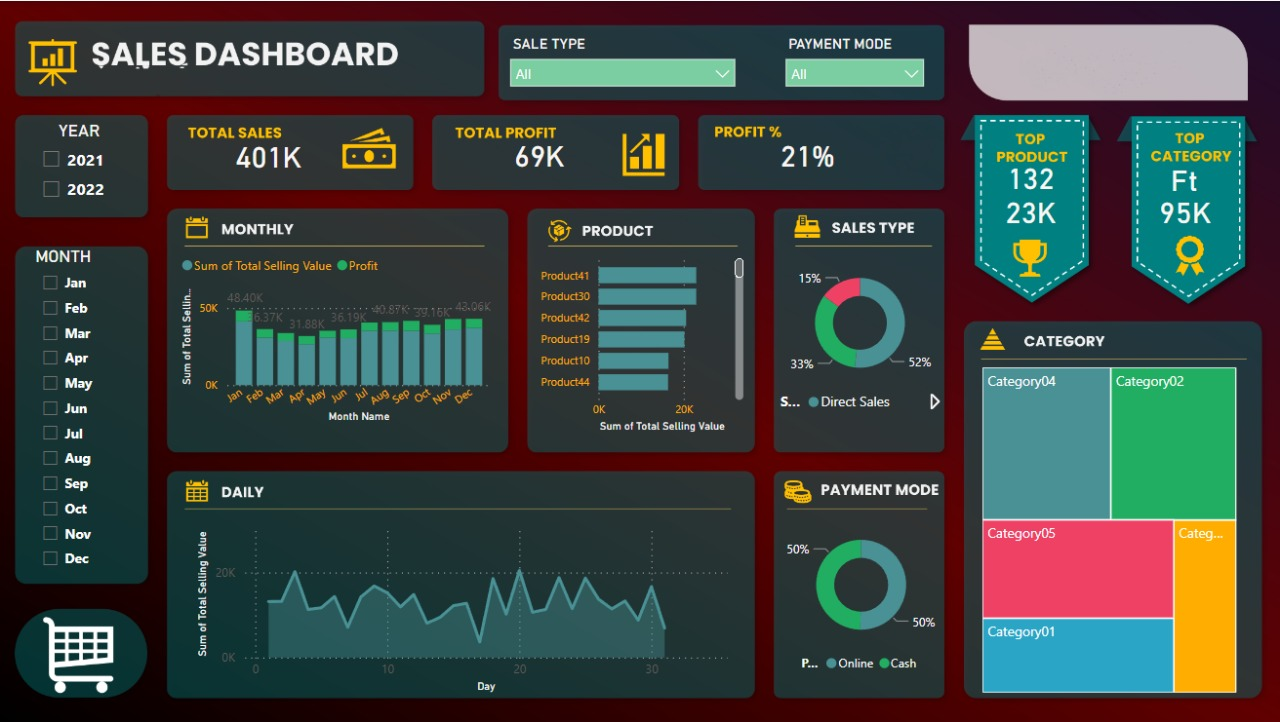

What the dashboard file says about the page in this screenshot:
{"tool":"powerbi","page":{"name":"Page 1","canvas":[1280,720],"ordinal":0},"visuals":[{"type":"slicer","title":"YEAR","fields":{"Values":["InputData.Year"]},"box":[27.3,122.9,115.5,94.4],"z":0},{"type":"slicer","fields":{"Values":["InputData.PAYMENT MODE"]},"box":[758.7,28.6,183.8,72],"z":1000},{"type":"slicer","fields":{"Values":["InputData.SALE TYPE"]},"box":[529,28.6,206.1,68.3],"z":2000},{"type":"slicer","title":"MONTH","fields":{"Values":["InputData.Month Name"]},"box":[27.3,265.7,115.5,322.9],"z":3000},{"type":"card","fields":{"Values":["Sum(InputData.Total Selling Value)"]},"box":[193.7,146.5,116.7,37.3],"z":4000},{"type":"card","fields":{"Values":["Min(InputData.MasterData.UOM)"]},"box":[1065.4,172.6,52.2,36],"z":5000},{"type":"card","fields":{"Values":["Sum(InputData.Total Selling Value)"]},"box":[1022,202.4,86.9,38.5],"z":6000},{"type":"card","fields":{"Values":["InputData.Profit %"]},"box":[836.9,137.8,95.6,45.9],"z":7000},{"type":"card","fields":{"Values":["Sum(InputData.QUANTITY)"]},"box":[1014.5,168.9,59.6,44.7],"z":8000},{"type":"card","fields":{"Values":["InputData.Profit"]},"box":[463.2,145.3,132.9,38.5],"z":9000},{"type":"card","fields":{"Values":["Sum(InputData.Total Selling Value)"]},"box":[1184.6,197.4,83.2,39.7],"z":10000},{"type":"columnChart","fields":{"Category":["InputData.Month Name"],"Y":["Sum(InputData.Total Selling Value)","InputData.Profit"]},"box":[183.8,250.8,345.2,206.1],"z":11000},{"type":"clusteredBarChart","fields":{"Category":["InputData.MasterData.PRODUCT"],"Y":["Sum(InputData.Total Selling Value)"]},"box":[552.6,250.8,224.8,206.1],"z":12000},{"type":"areaChart","fields":{"Y":["Sum(InputData.Total Selling Value)"],"Category":["InputData.Day"]},"box":[209.9,532.7,537.7,173.8],"z":13000},{"type":"donutChart","title":"Total Selling Value by SALE TYPE","fields":{"Y":["Sum(InputData.Total Selling Value)"],"Category":["InputData.SALE TYPE"]},"box":[804.7,265.7,167.6,187.5],"z":14000},{"type":"donutChart","title":"Total Selling Value by SALE TYPE","fields":{"Y":["Sum(InputData.Total Selling Value)"],"Category":["InputData.PAYMENT MODE"]},"box":[798.5,525.3,173.8,187.5],"z":15000},{"type":"treemap","fields":{"Values":["Sum(InputData.Total Selling Value)"],"Group":["InputData.MasterData.CATEGORY"]},"box":[1014.5,370,253.3,350.2],"z":16000}]}

Visuals, with their boxes in screenshot pixels (x1, y1, x2, y2), scaled from the page's 1280x720 canvas onto the 1280x722 screenshot:
"YEAR" slicer: (left=27, top=123, right=143, bottom=218)
slicer - InputData.PAYMENT MODE: (left=759, top=29, right=942, bottom=101)
slicer - InputData.SALE TYPE: (left=529, top=29, right=735, bottom=97)
"MONTH" slicer: (left=27, top=266, right=143, bottom=590)
card - Sum(InputData.Total Selling Value): (left=194, top=147, right=310, bottom=184)
card - Min(InputData.MasterData.UOM): (left=1065, top=173, right=1118, bottom=209)
card - Sum(InputData.Total Selling Value): (left=1022, top=203, right=1109, bottom=242)
card - InputData.Profit %: (left=837, top=138, right=932, bottom=184)
card - Sum(InputData.QUANTITY): (left=1014, top=169, right=1074, bottom=214)
card - InputData.Profit: (left=463, top=146, right=596, bottom=184)
card - Sum(InputData.Total Selling Value): (left=1185, top=198, right=1268, bottom=238)
columnChart - InputData.Month Name x Sum(InputData.Total Selling Value): (left=184, top=251, right=529, bottom=458)
clusteredBarChart - InputData.MasterData.PRODUCT x Sum(InputData.Total Selling Value): (left=553, top=251, right=777, bottom=458)
areaChart - Sum(InputData.Total Selling Value) x InputData.Day: (left=210, top=534, right=748, bottom=708)
"Total Selling Value by SALE TYPE" donutChart: (left=805, top=266, right=972, bottom=454)
"Total Selling Value by SALE TYPE" donutChart: (left=798, top=527, right=972, bottom=715)
treemap - Sum(InputData.Total Selling Value) x InputData.MasterData.CATEGORY: (left=1014, top=371, right=1268, bottom=721)
